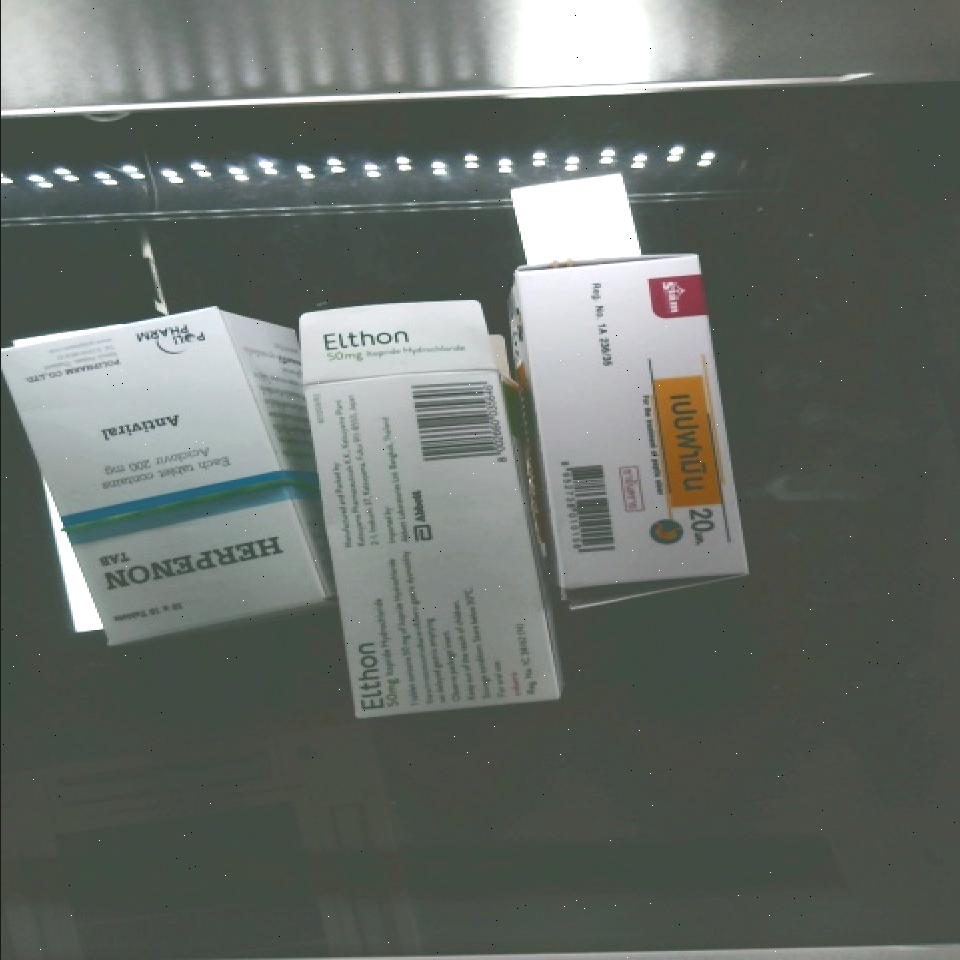medicine_box: (0, 266, 332, 681), (273, 277, 562, 743), (512, 236, 751, 603)
medicine_label_obb: (77, 507, 305, 612), (642, 371, 734, 559), (341, 629, 397, 718)
